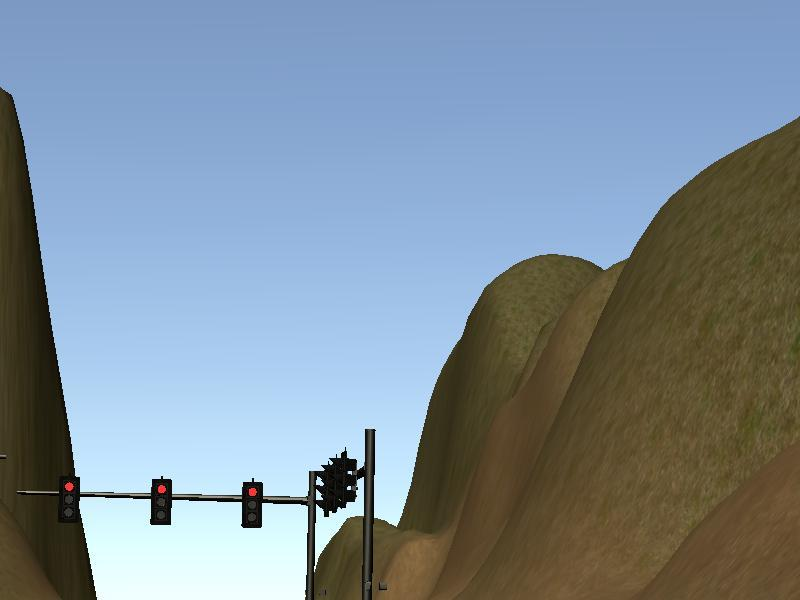Red: (242, 481, 263, 528), (150, 478, 171, 525), (58, 476, 79, 523)
